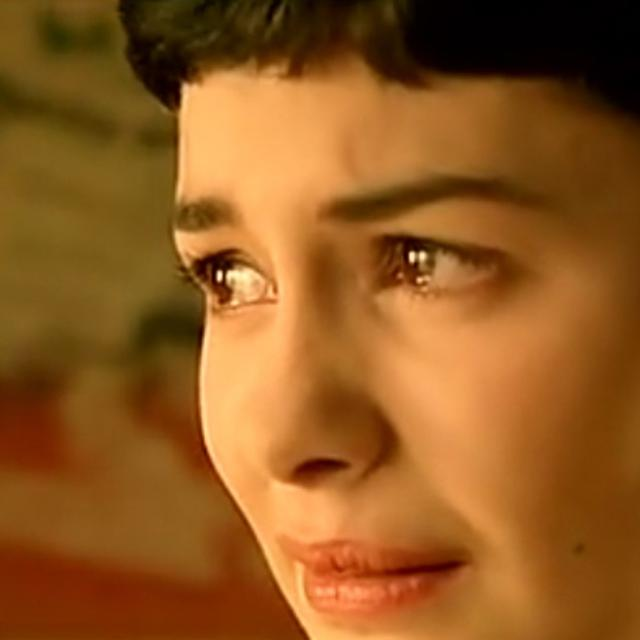Depress: (172, 70, 639, 639)
